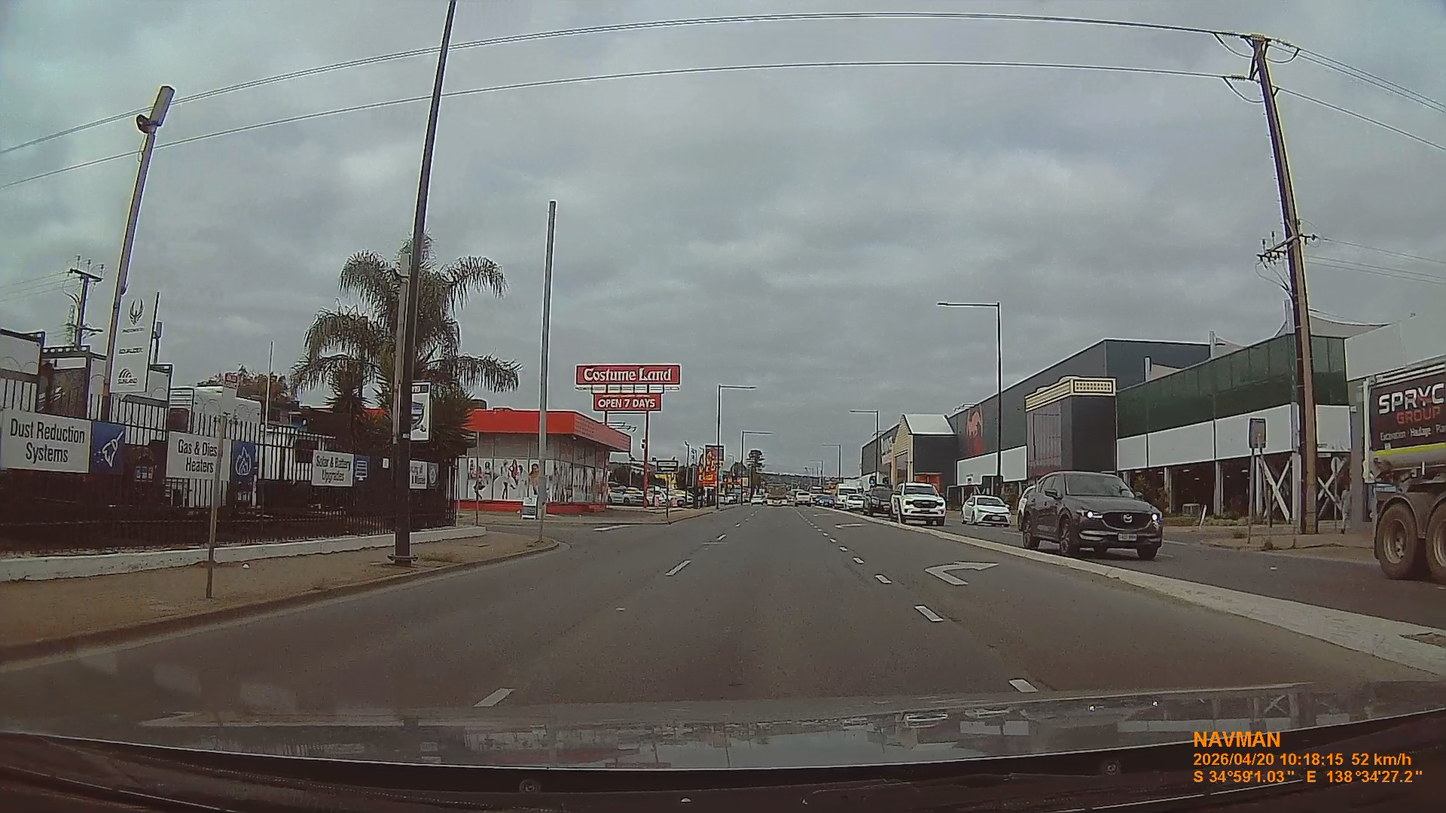fences: (0, 443, 209, 553)
